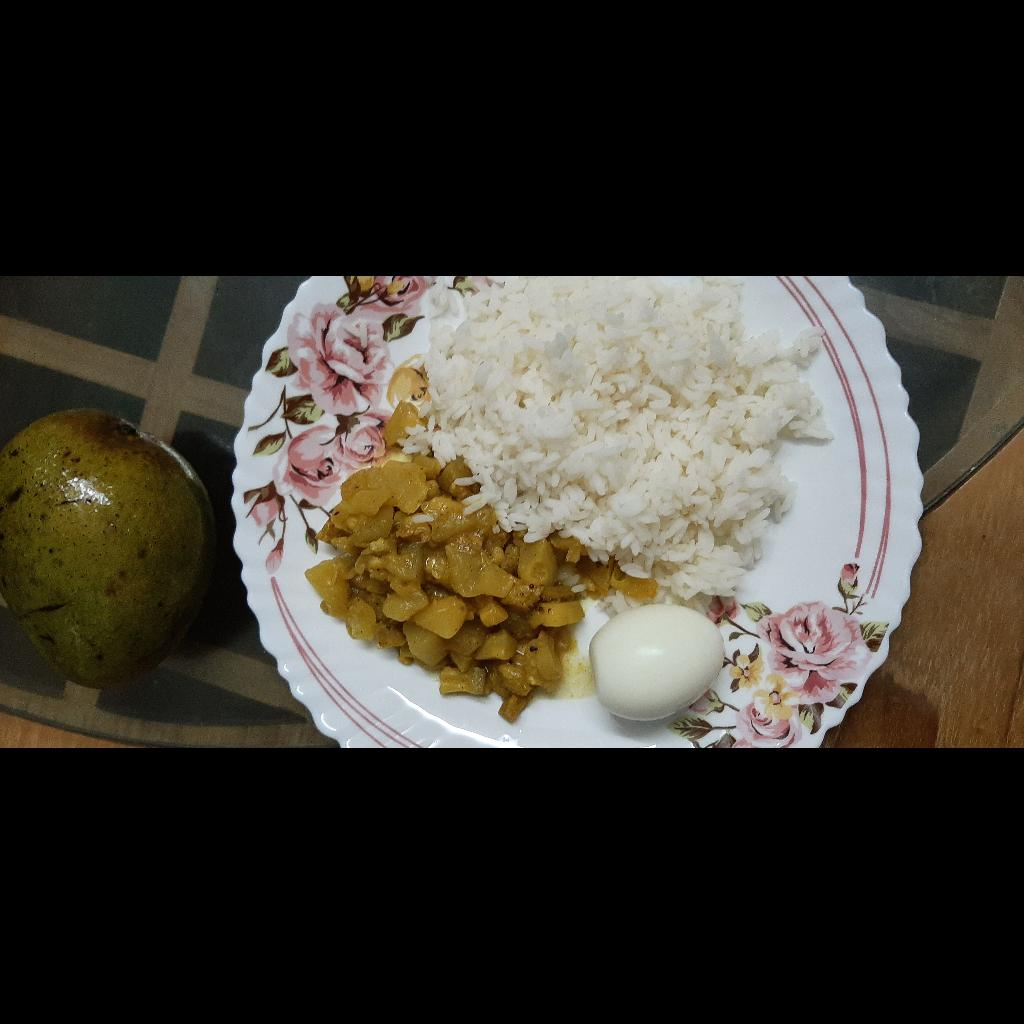egg-boiled: (26, 862, 140, 1006)
kumra-vaji: (18, 581, 294, 932)
mango: (60, 276, 340, 490)
rice: (124, 672, 472, 1024)
